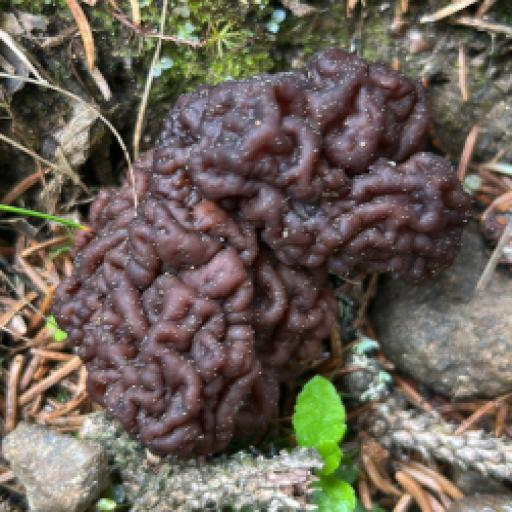mushroom: (72, 44, 461, 444)
